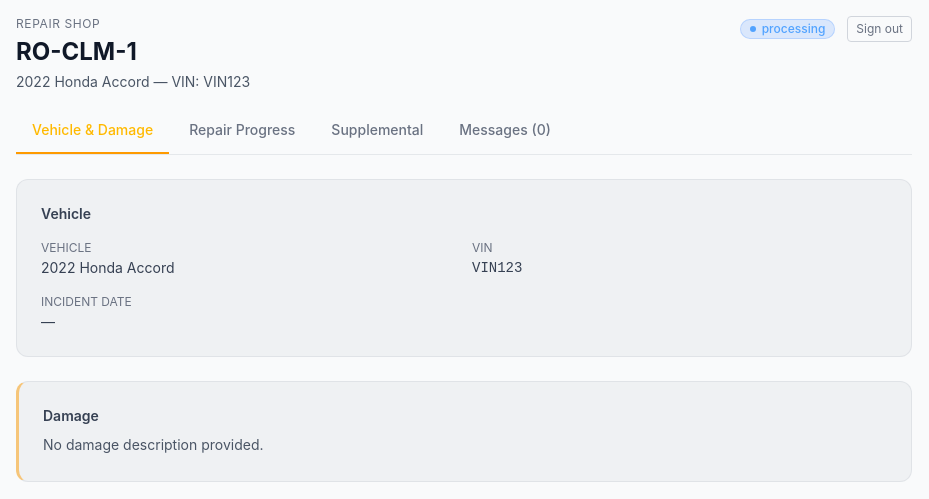
Test: RepairPortalClaimDetail › navigates between Repair Progress and Supplemental tabs
The width and height of the screenshot is (929, 499).
Click the button "Repair Progress". click: (242, 135)
box: x1=173 y1=116 x2=311 y2=154
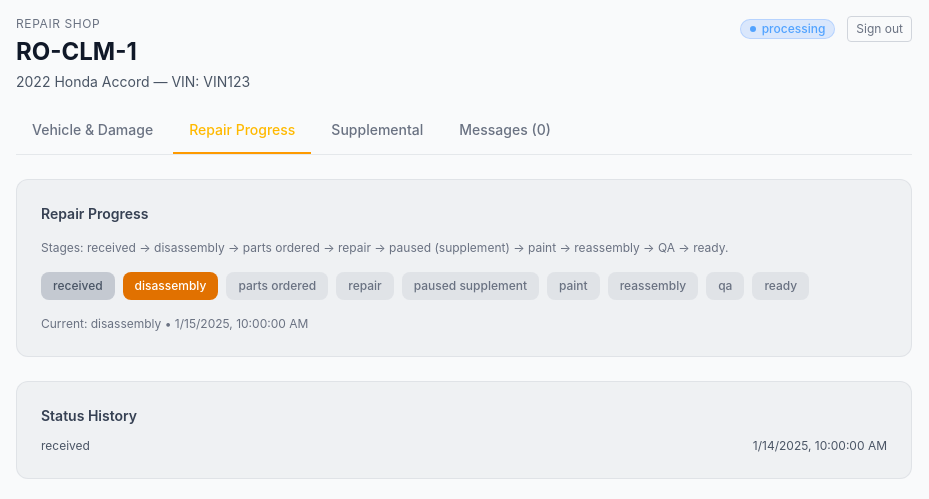
Result: the heading "Status History" is shown at x1=41 y1=407 x2=137 y2=424
Click the button "Supplemental". click: (377, 135)
box: x1=315 y1=116 x2=439 y2=154
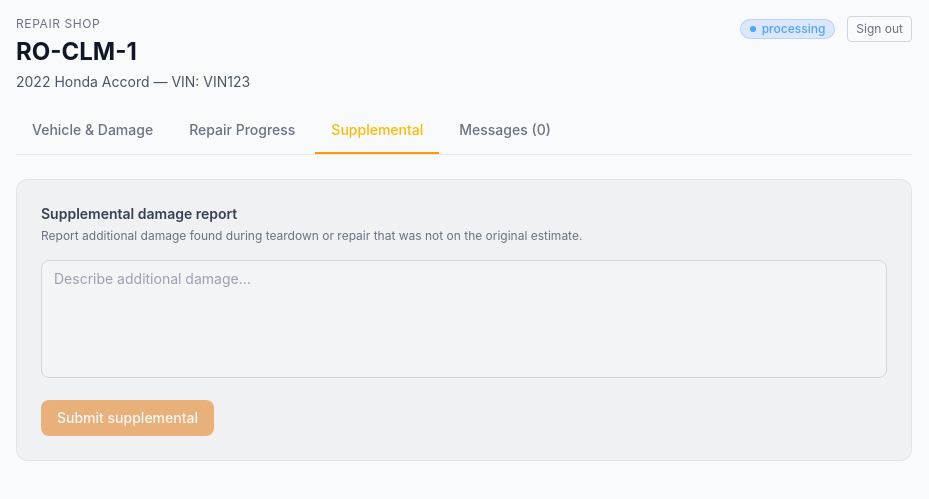
Result: the heading "Supplemental damage report" is shown at x1=41 y1=205 x2=237 y2=222
